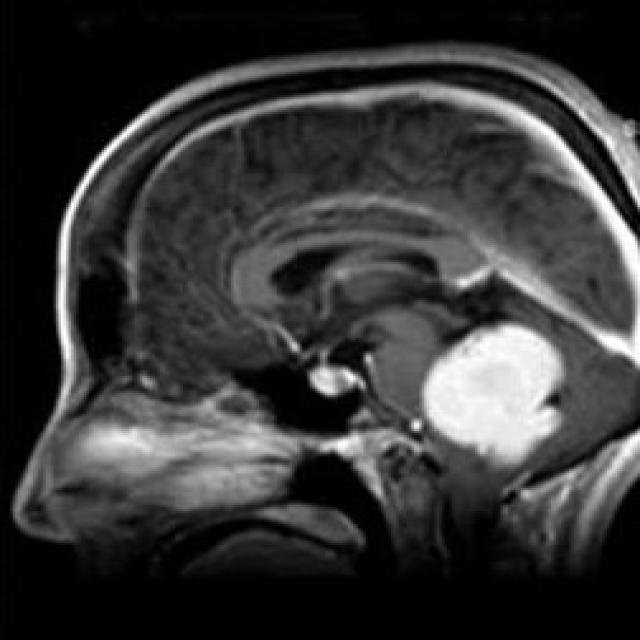brain_tumor: (422, 324, 564, 464)
